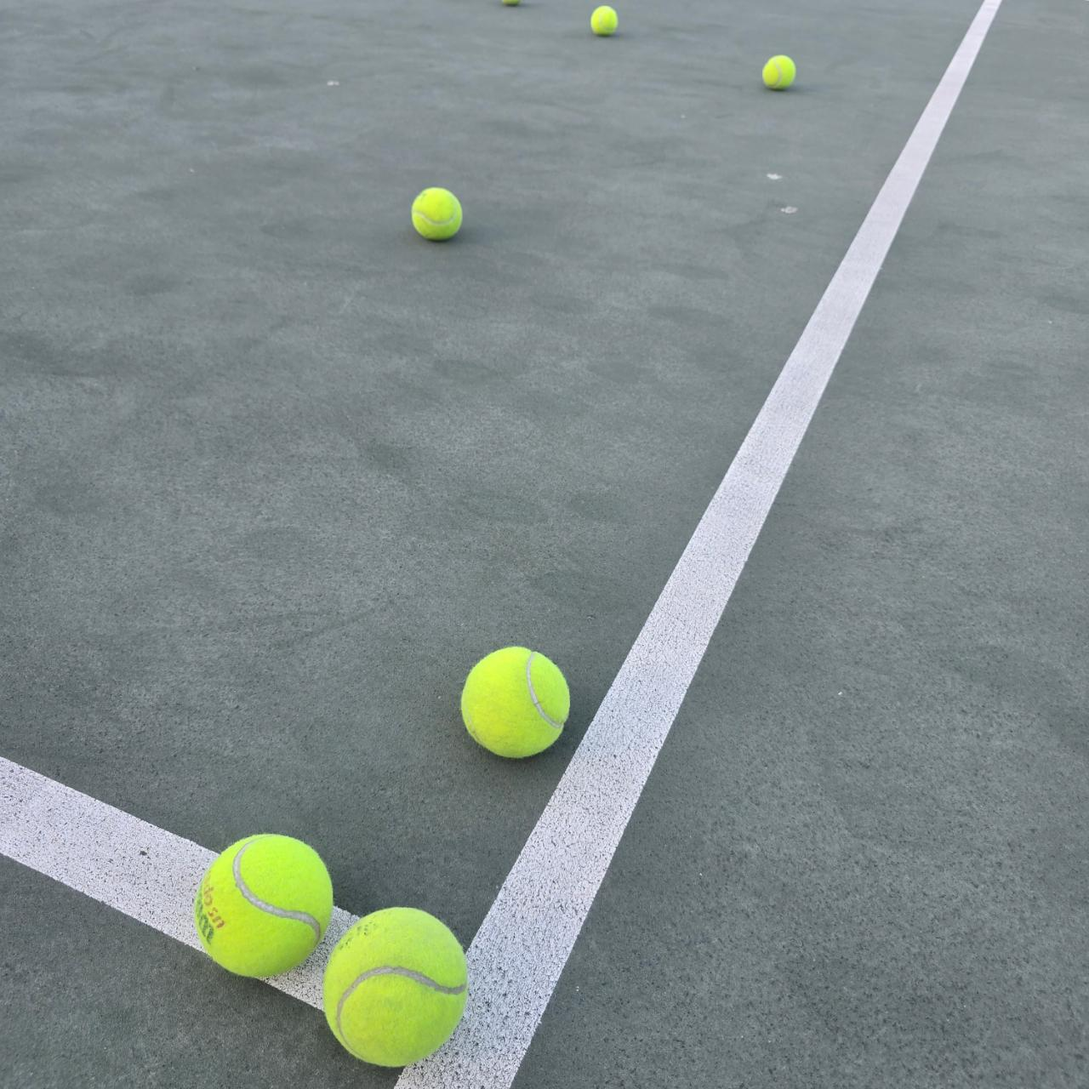tennis-ball: (321, 904, 469, 1069), (191, 830, 334, 980), (458, 642, 572, 760), (409, 184, 464, 241), (760, 53, 795, 89), (588, 3, 619, 36)
